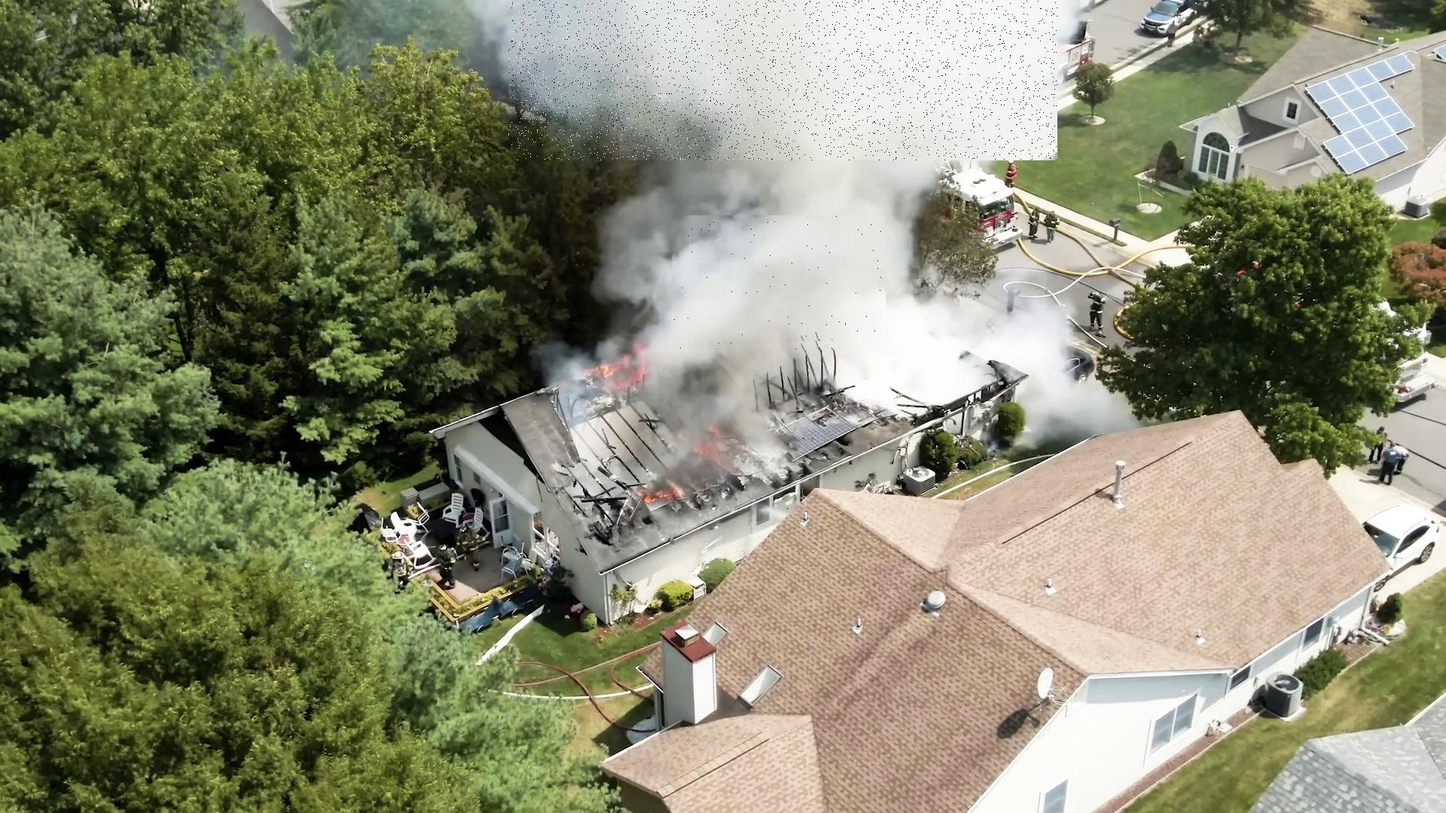smoke: (509, 0, 1058, 160), (673, 216, 888, 350)
